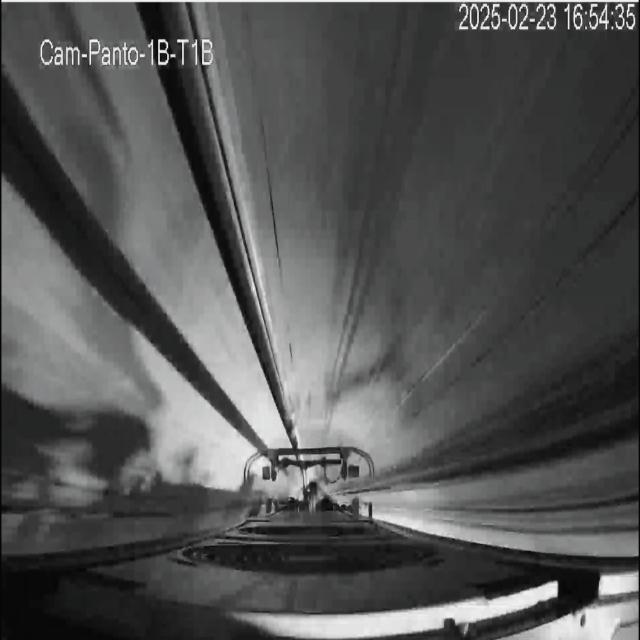Camera Stamp: (41, 34, 218, 69)
Date Stamp: (458, 3, 636, 33)
No - Spark: (244, 444, 374, 515)
